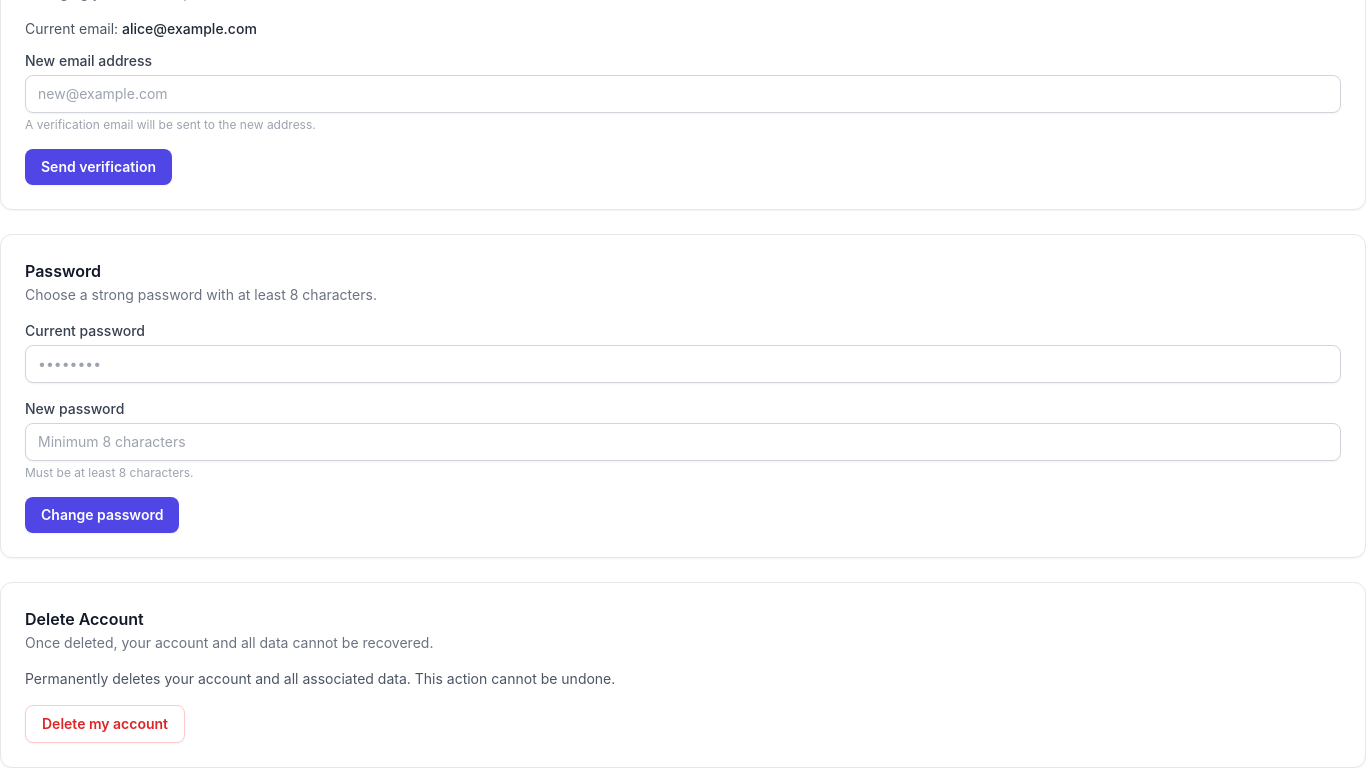
Test: AccountPage › shows email confirmation form when delete button clicked
This screenshot has width=1366, height=768.
(page scrolled)
What coordinates should you click on to do the following:
click the button "Delete my account"
I would click on:
 (105, 724)
Its box is [25,705,185,743].
(page scrolled)
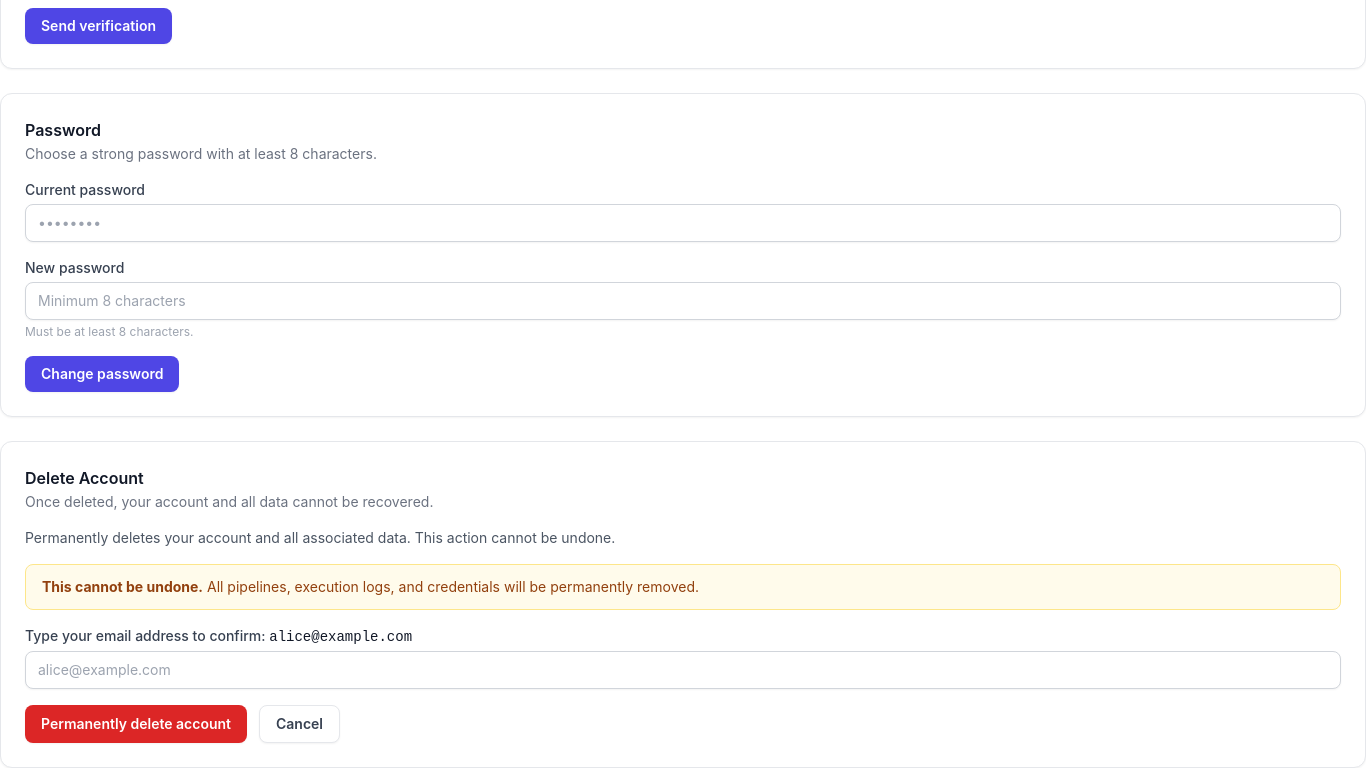
Expected: the field labelled "Type your email address to confirm: alice@example.com" is shown, [25,651,1341,689]
